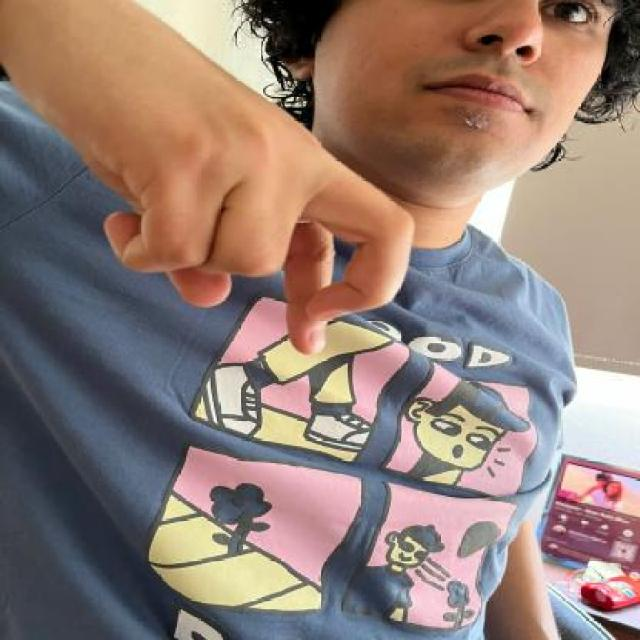P: (4, 0, 422, 363)
